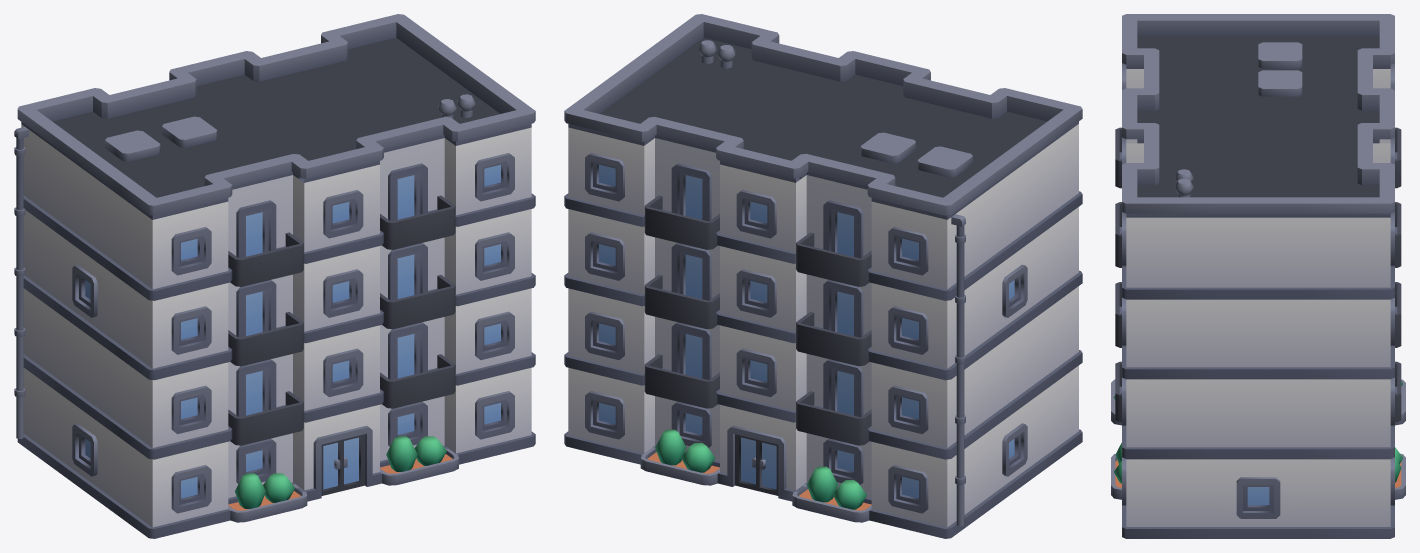
Rendered from building-j.glb.
The picture shows the model from 3 angles, left to right: view 1: azimuth 30°, elevation 25°; view 2: azimuth 150°, elevation 25°; view 3: azimuth 270°, elevation 25°; orthographic projection.
Visible parts, largest first — view 1: building-j; view 2: building-j; view 3: building-j.
Part boxes in pixels (bbox=[...]): building-j: bbox=[14, 14, 535, 538]; building-j: bbox=[564, 14, 1082, 538]; building-j: bbox=[1111, 14, 1405, 538].
Size of the model in its own units: 2.08 by 1.69 by 1.34.
1 material, 1 textured.
